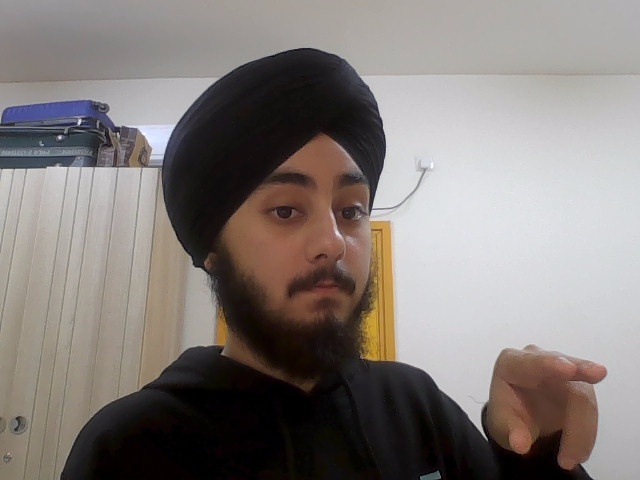No: (485, 335, 610, 472)
